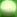white: (0, 0, 17, 17)
